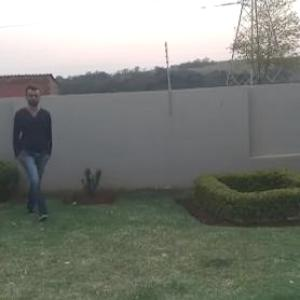follow: (13, 87, 65, 204)
